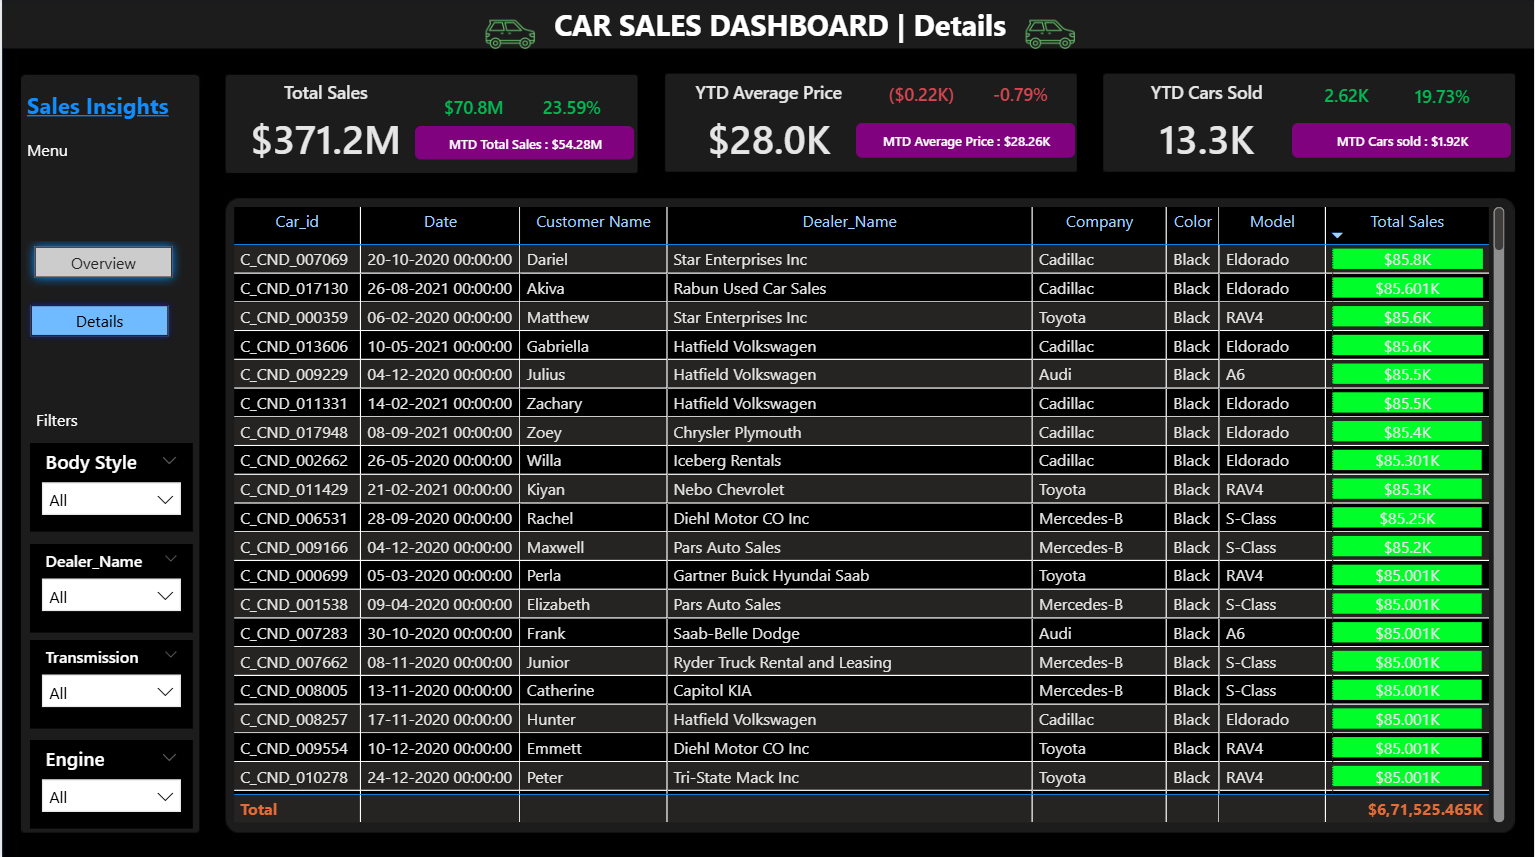

The page's visual inventory and layout, read from the dashboard file:
{"tool":"powerbi","page":{"name":"Details","canvas":[1280,720],"ordinal":1},"visuals":[{"type":"card","title":"Total Sales","fields":{"Values":["Car_Data.YTD Total Sales"]},"box":[188,67.4,164.9,78],"z":0},{"type":"card","title":"Sales Difference","fields":{"Values":["Car_Data.Sales difference"]},"box":[348.5,78.9,91.3,25.7],"z":1000},{"type":"card","title":"Sales Difference","fields":{"Values":["Car_Data.Year on Year sales growth"]},"box":[430,78.9,91.3,25.7],"z":2000},{"type":"card","fields":{"Values":["Car_Data.Month to date KPI"]},"box":[344.9,106.4,182.7,28.4],"z":3000},{"type":"card","title":"YTD Average Price","fields":{"Values":["Car_Data.Year to date average price"]},"box":[557.7,67.4,164.9,78],"z":4000},{"type":"card","title":"Sales Difference","fields":{"Values":["Car_Data.Avg. price diff."]},"box":[722.9,66.5,90.8,25.3],"z":5000},{"type":"card","title":"Sales Difference","fields":{"Values":["Car_Data.Year on Year Avg. Price growth"]},"box":[805.3,66.5,90.8,25.3],"z":6000},{"type":"card","fields":{"Values":["Car_Data.Month to date Average KPI"]},"box":[713.5,103.9,182.6,29],"z":7000},{"type":"card","title":"YTD Cars Sold","fields":{"Values":["Car_Data.YTD Cars sold"]},"box":[924.2,67.4,164.8,77.7],"z":8000},{"type":"card","title":"Sales Difference","fields":{"Values":["Car_Data.Cars sold diff"]},"box":[1077.4,68.1,90.8,25.3],"z":9000},{"type":"card","title":"Sales Difference","fields":{"Values":["Car_Data.Year on Year cars sold growth"]},"box":[1157.3,68.4,90.8,25.3],"z":10000},{"type":"card","fields":{"Values":["Car_Data.Month to date cars sold KPI"]},"box":[1077.7,103.9,182.6,29],"z":11000},{"type":"textbox","box":[424.4,0,451.1,44.4],"z":12000},{"type":"slicer","fields":{"Values":["Car_Data.Body Style"]},"box":[23.3,371.1,135.6,74.4],"z":13000},{"type":"slicer","fields":{"Values":["Car_Data.Dealer_Name"]},"box":[23.3,455.6,135.6,74.4],"z":14000},{"type":"slicer","fields":{"Values":["Car_Data.Transmission"]},"box":[23.3,535.6,135.6,74.4],"z":15000},{"type":"slicer","fields":{"Values":["Car_Data.Engine"]},"box":[23.3,618.9,135.6,74.4],"z":16000},{"type":"textbox","box":[23.3,337.8,67.8,33.3],"z":17000},{"type":"tableEx","fields":{"Values":["Car_Data.Car_id","Calendar Table.Date","Car_Data.Customer Name","Car_Data.Dealer_Name","Car_Data.Company","Car_Data.Color","Car_Data.Model","Sum(Car_Data.Price ($))"]},"box":[187.8,168.9,1072.2,524.4],"z":18000},{"type":"textbox","box":[15.6,71.1,143.3,47.8],"z":19000},{"type":"textbox","box":[15.6,112.2,67.8,33.3],"z":20000},{"type":"image","box":[390,0,68.9,58.9],"z":21000},{"type":"image","box":[841.1,0,68.9,58.9],"z":22000},{"type":"pageNavigator","box":[18.9,198.9,131.1,95.6],"z":23000}]}

Visuals, with their boxes in screenshot pixels (x1, y1, x2, y2), scaled from the page's 1280x720 canvas onto the 1535x857 screenshot:
"Total Sales" card: [left=225, top=80, right=423, bottom=173]
"Sales Difference" card: [left=418, top=94, right=527, bottom=125]
"Sales Difference" card: [left=516, top=94, right=625, bottom=125]
card - Car_Data.Month to date KPI: [left=414, top=127, right=633, bottom=160]
"YTD Average Price" card: [left=669, top=80, right=867, bottom=173]
"Sales Difference" card: [left=867, top=79, right=976, bottom=109]
"Sales Difference" card: [left=966, top=79, right=1075, bottom=109]
card - Car_Data.Month to date Average KPI: [left=856, top=124, right=1075, bottom=158]
"YTD Cars Sold" card: [left=1108, top=80, right=1306, bottom=173]
"Sales Difference" card: [left=1292, top=81, right=1401, bottom=111]
"Sales Difference" card: [left=1388, top=81, right=1497, bottom=112]
card - Car_Data.Month to date cars sold KPI: [left=1292, top=124, right=1511, bottom=158]
textbox: [left=509, top=0, right=1050, bottom=53]
slicer - Car_Data.Body Style: [left=28, top=442, right=191, bottom=530]
slicer - Car_Data.Dealer_Name: [left=28, top=542, right=191, bottom=631]
slicer - Car_Data.Transmission: [left=28, top=638, right=191, bottom=726]
slicer - Car_Data.Engine: [left=28, top=737, right=191, bottom=825]
textbox: [left=28, top=402, right=109, bottom=442]
tableEx - Car_Data.Car_id x Calendar Table.Date: [left=225, top=201, right=1511, bottom=825]
textbox: [left=19, top=85, right=191, bottom=142]
textbox: [left=19, top=134, right=100, bottom=173]
image: [left=468, top=0, right=550, bottom=70]
image: [left=1009, top=0, right=1091, bottom=70]
pageNavigator: [left=23, top=237, right=180, bottom=351]
